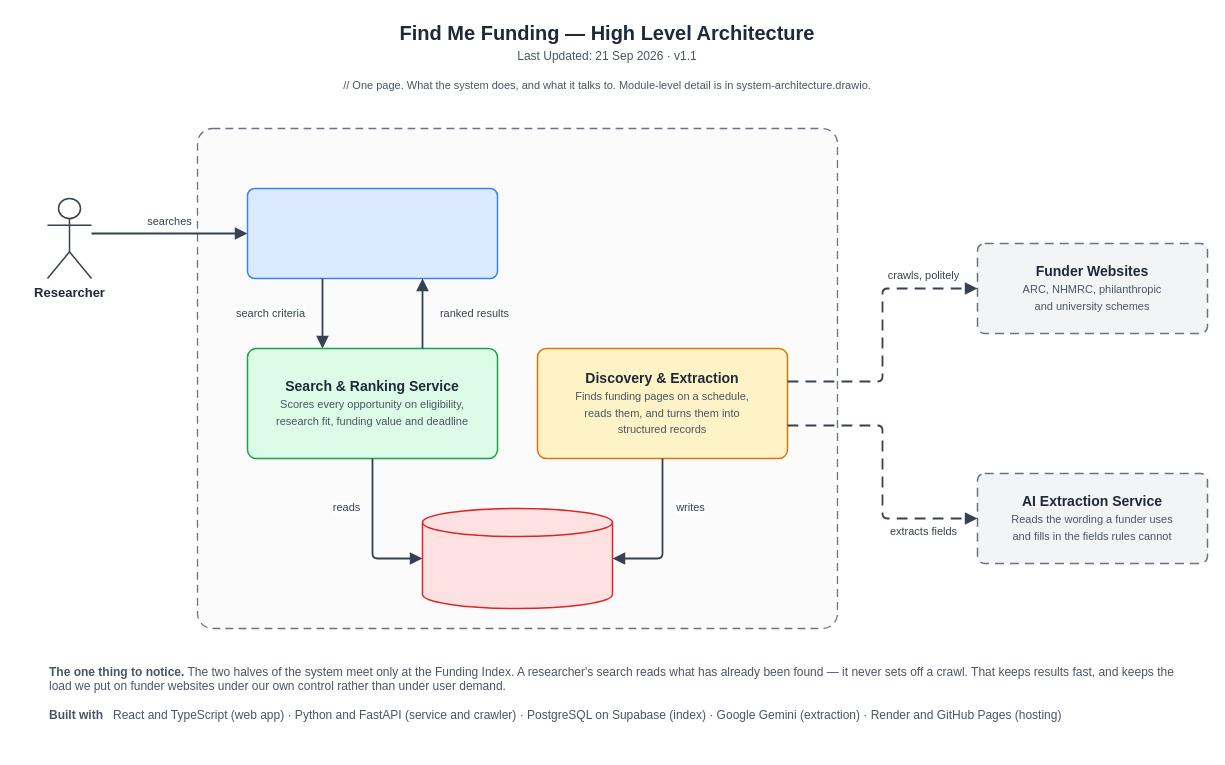
The diagram is 1225 pixels wide and 765 high, and some of its shapes have lost their labels. Each missing label, with the box of its shape:
Find Me Funding: (196, 127, 838, 629)
Funding Index Everything found so far: (421, 507, 613, 609)
Web App Search form and ranked results: (246, 187, 498, 279)
